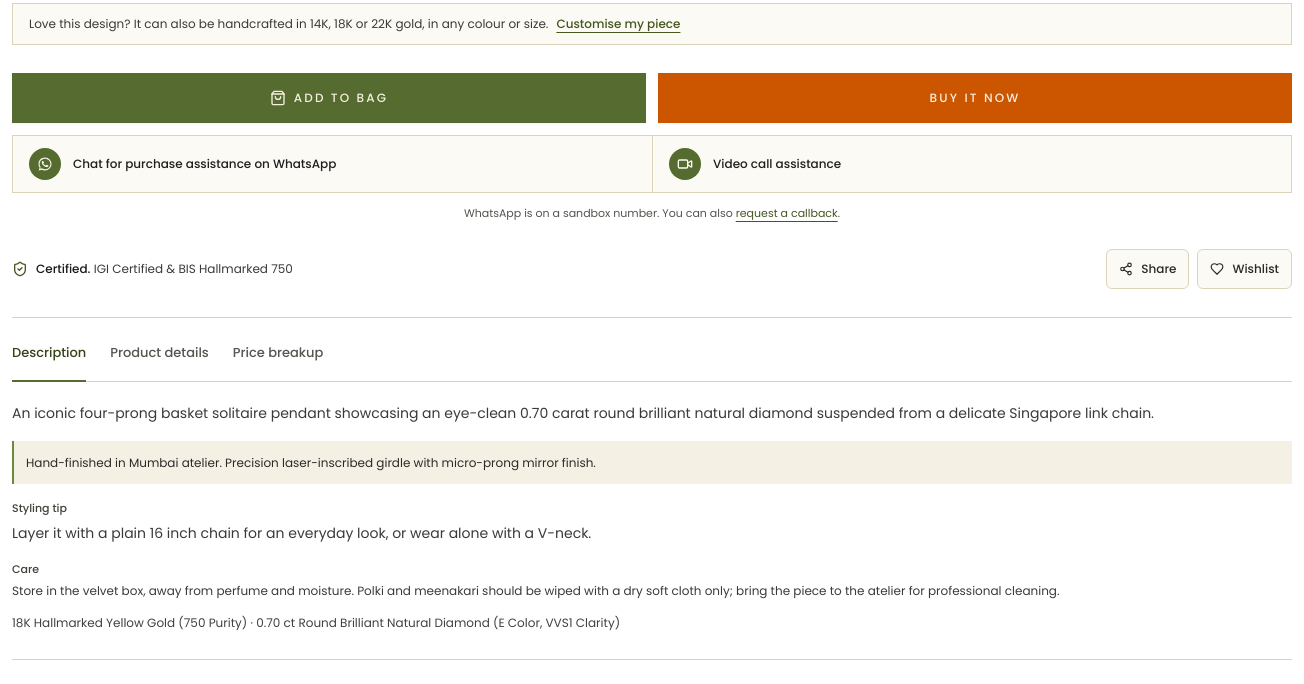
Test: Variant Selector & Real-Time Sync — Smoke Test Matrix S04 Contract › updates SKU, price and WhatsApp link when metal colour and purity change
(page scrolled)
Note: Open the product details tab (spec sheet with SKU)
What coordinates should you click on to do the following:
click the tab "Product details"
I would click on:
 (160, 360)
Its box is [110,338,209,382].
(page scrolled)
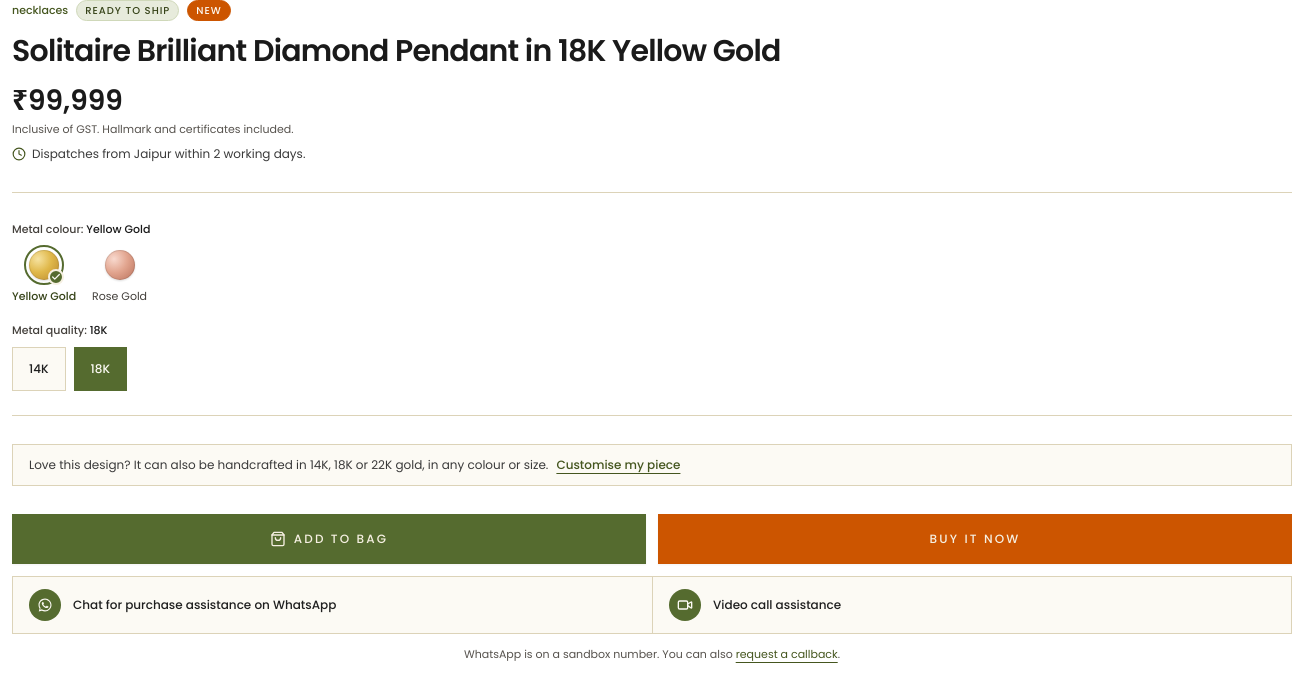
Note: Switch colour to Rose Gold (keeps 18K)
What coordinates should you click on to do the following:
click the button with aria-label "18k rose gold"
I would click on:
 (120, 274)
Its box is [92,245,147,302].
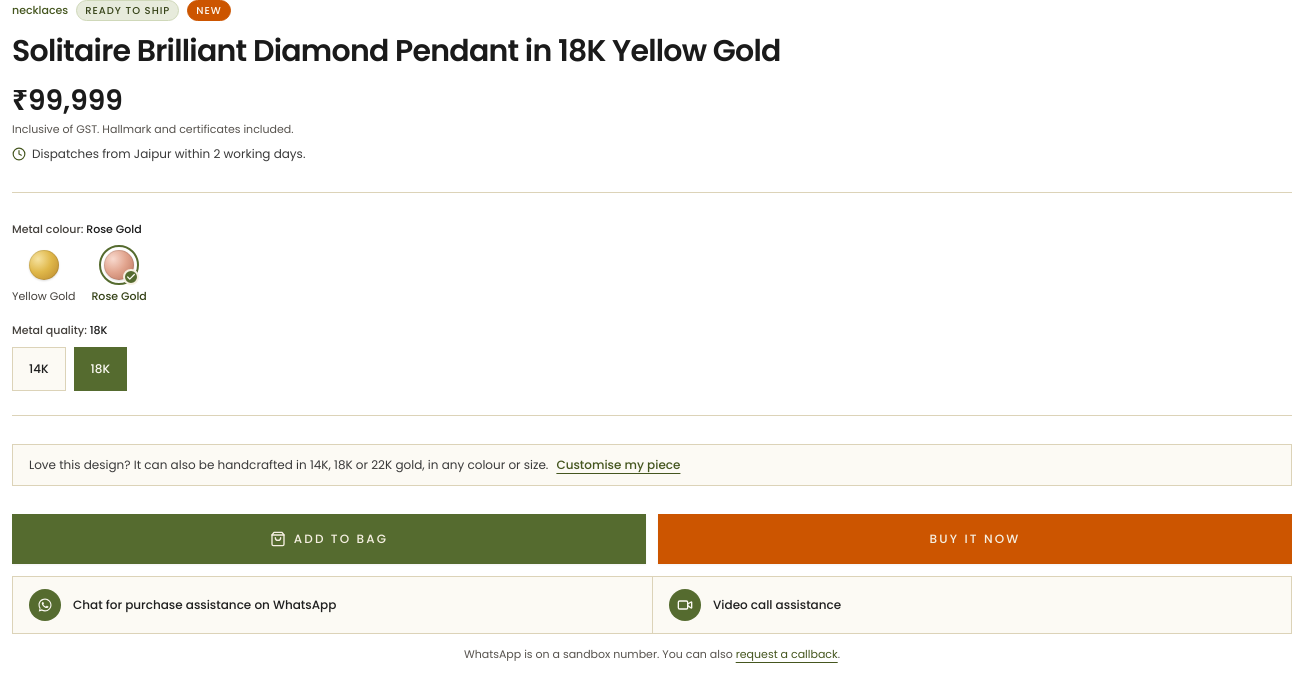
Note: Switch purity to 14K (keeps Rose Gold) and the price changes
What coordinates should you click on to do the following:
click the button "14K"
I would click on:
 (39, 368)
Its box is [12,346,66,390].
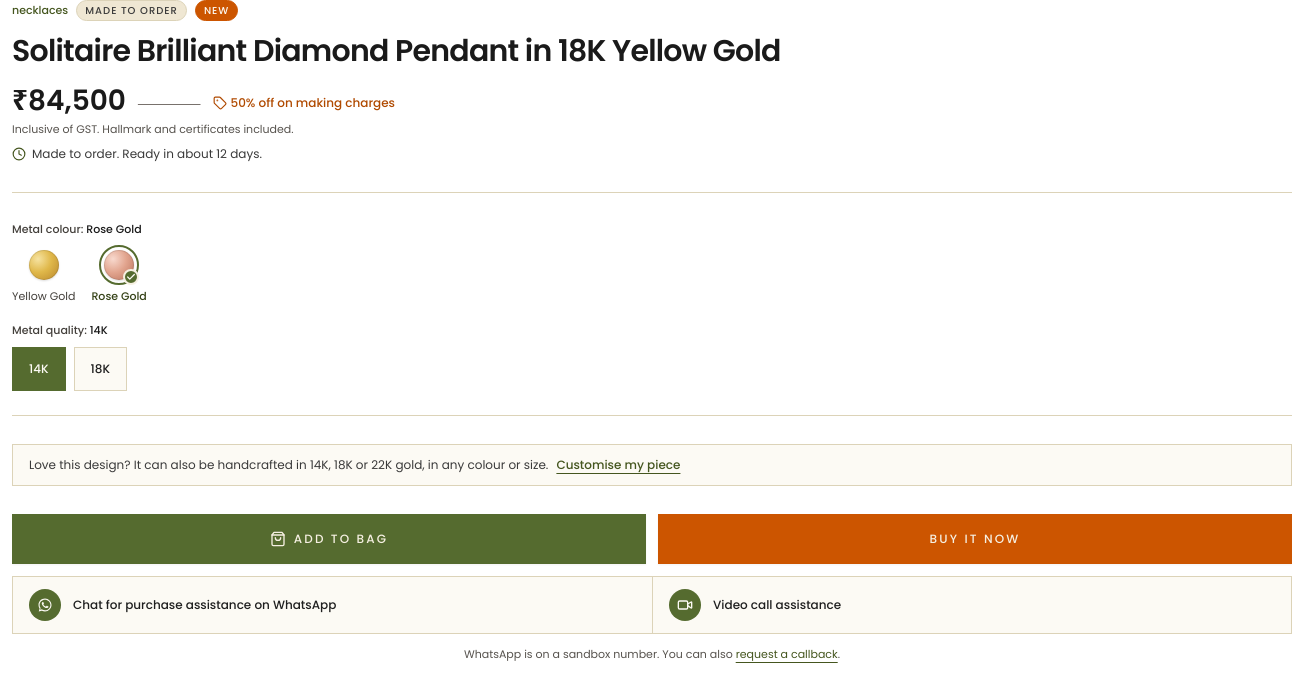
Expected: the text "₹84,500" is shown, [12,85,126,117]
